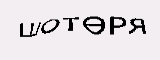А: (105, 23, 127, 44)
Ж: (36, 19, 60, 39)
Р: (58, 21, 73, 41)
Х: (73, 24, 89, 40)
Ч: (87, 26, 108, 47)
